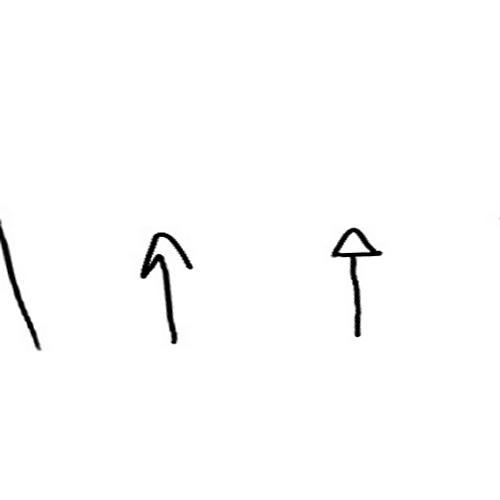arrow: (135, 229, 196, 346), (327, 225, 384, 340)
arrownohead: (1, 221, 44, 351)
